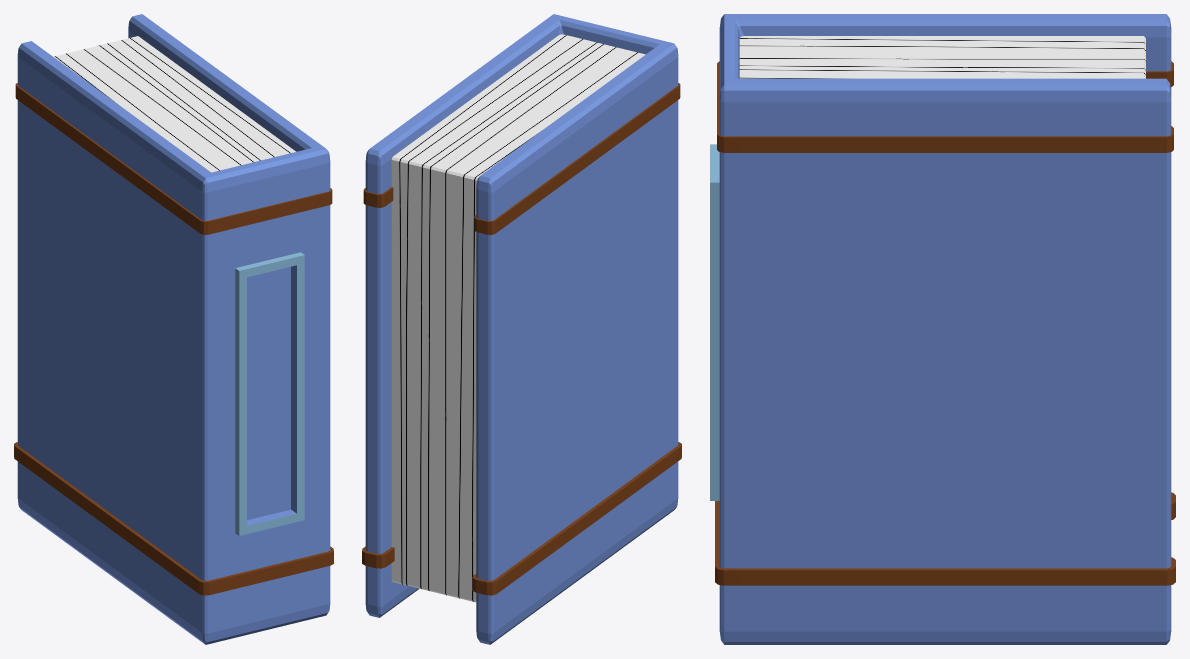
The model's file is Book_6.fbx.
The picture shows the model from 3 angles, left to right: view 1: azimuth 30°, elevation 25°; view 2: azimuth 150°, elevation 25°; view 3: azimuth 270°, elevation 25°; orthographic projection. The views are drawn at different scales.
Visible parts, largest first — view 1: Cube.008; view 2: Cube.008; view 3: Cube.008.
Part boxes in pixels (bbox=[...]): Cube.008: bbox=[14, 14, 333, 644]; Cube.008: bbox=[362, 14, 681, 644]; Cube.008: bbox=[710, 14, 1175, 644].
Size of the model in its own units: 196 by 651 by 491.
